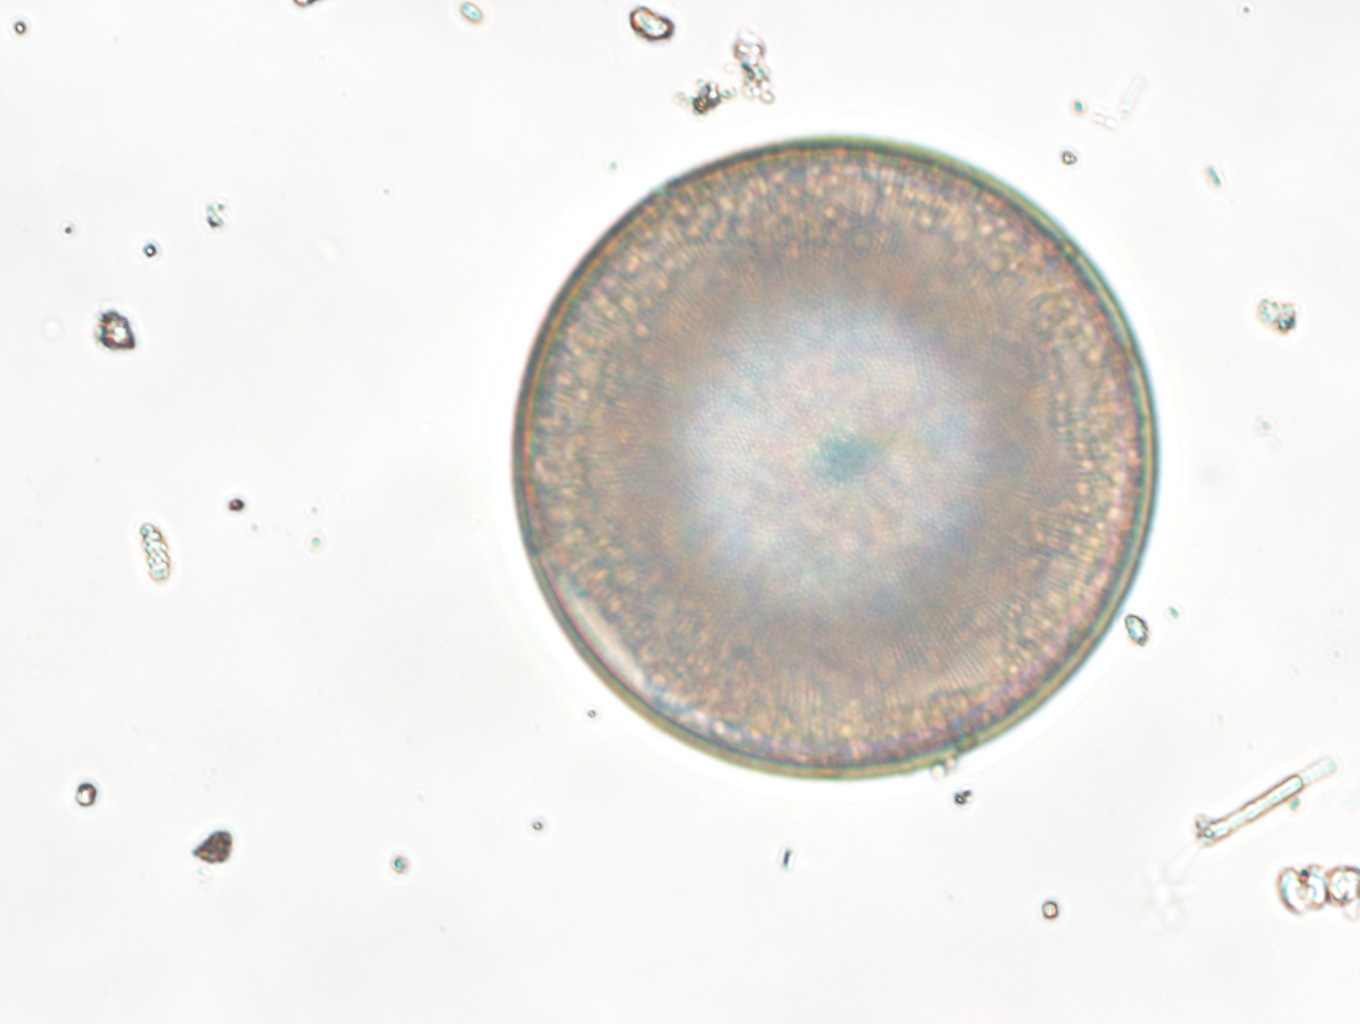coscinodiscus: (509, 132, 1161, 782)
